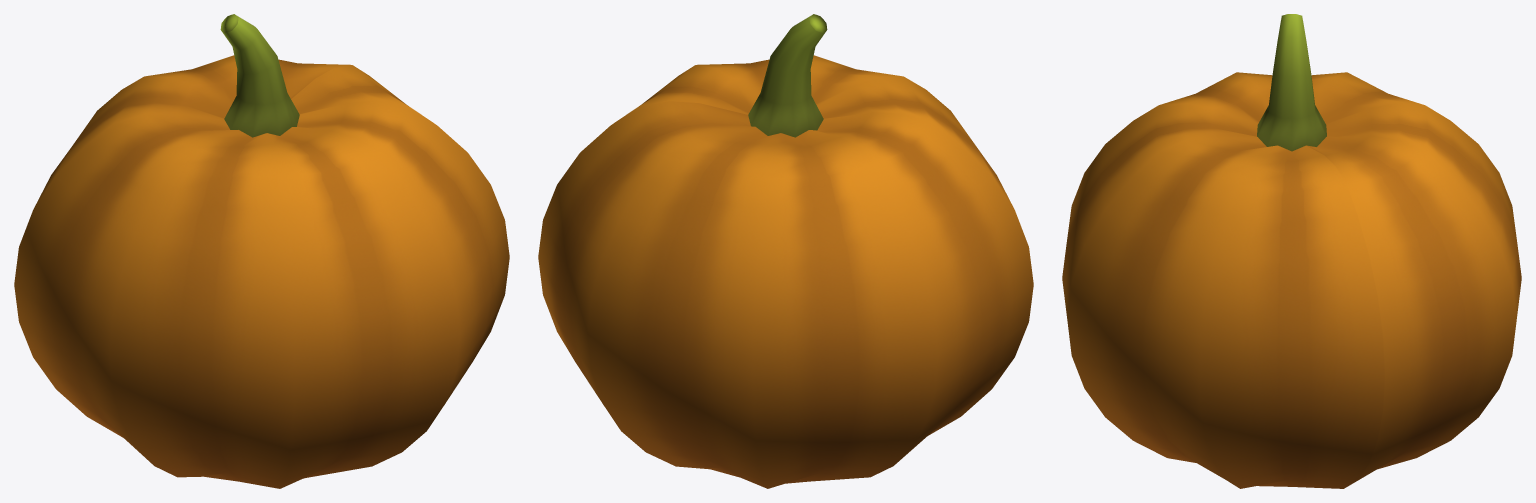
Rendered from Calabaza.fbx.
3 renders of one model, left to right at view 1: azimuth 30°, elevation 25°; view 2: azimuth 150°, elevation 25°; view 3: azimuth 270°, elevation 25°, orthographic. The views are drawn at different scales.
Visible parts, largest first — view 1: pSphere1; view 2: pSphere1; view 3: pSphere1.
Part boxes in pixels (x1,y1,x2,y2): pSphere1: [14, 14, 509, 488]; pSphere1: [538, 14, 1033, 488]; pSphere1: [1062, 14, 1521, 488].
Size of the model in its own units: 1.95 by 2.02 by 1.95.
